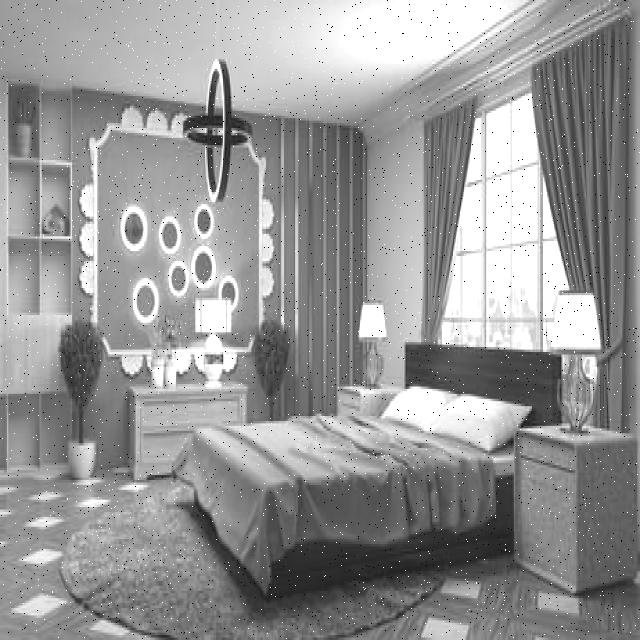bed: (180, 339, 556, 579)
